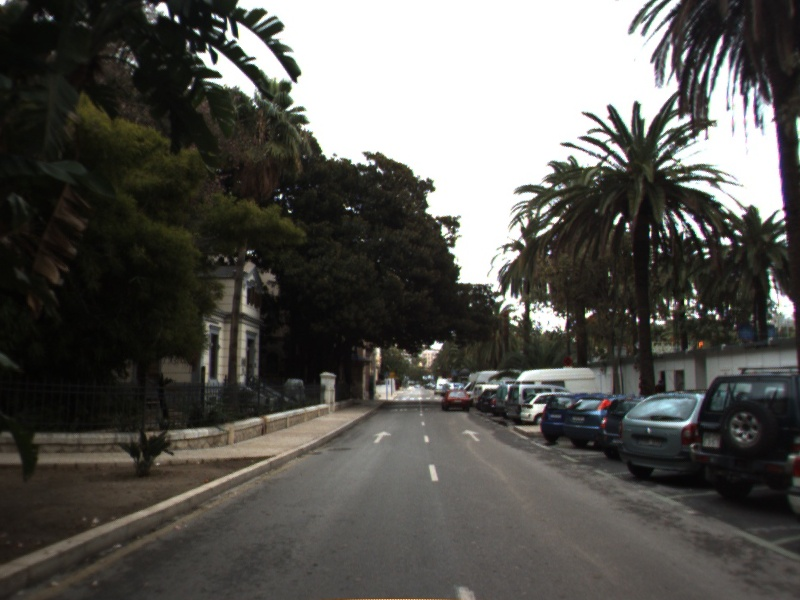STRAIGHT: (371, 430, 394, 445), (460, 428, 482, 443)
